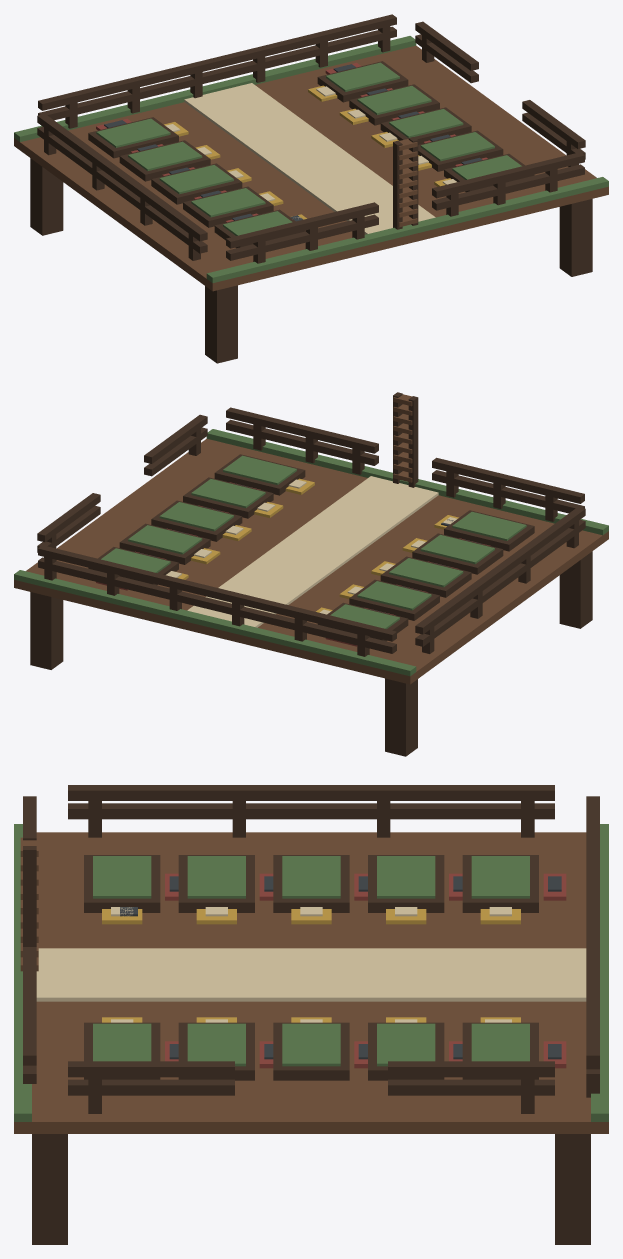
The model's file is KLC_ForestPlot_Floor02.fbx.
3 renders of one model, top to bottom at view 1: azimuth 30°, elevation 25°; view 2: azimuth 150°, elevation 25°; view 3: azimuth 270°, elevation 25°, orthographic. The views are drawn at different scales.
Parts seen in each view (by area): view 1: F02_MainDeck, F02_CenterPath, F02_GrassRimBack, F02_FenceFrontTop, F02_FenceFrontLow, F02_GrassRimFront, F02_FenceLeftTop, F02_Support_3, F02_Support_1, F02_Support_0, F02_FenceLeftLow, F02_FenceBackTop_R (+27 smaller); view 2: F02_MainDeck, F02_CenterPath, F02_GrassRimFront, F02_FenceFrontTop, F02_FenceFrontLow, F02_GrassRimBack, F02_FenceLeftTop, F02_Support_2, F02_Support_0, F02_Support_1, F02_FenceLeftLow, F02_FenceBackTop_R (+26 smaller); view 3: F02_MainDeck, F02_CenterPath, F02_FenceLeftLow, F02_FenceLeftTop, F02_Support_2, F02_Support_3, F02_FenceFrontTop, F02_GrassRimFront, F02_FenceRightTop, F02_FenceRightTopB, F02_GrassRimBack, F02_FenceRightLow (+23 smaller).
Boxes of the visible parts, box(x1,y1,x2,y2) form: F02_MainDeck: box(14, 45, 608, 291); F02_CenterPath: box(184, 83, 435, 234); F02_GrassRimBack: box(206, 177, 608, 282); F02_FenceFrontTop: box(38, 14, 396, 110); F02_FenceFrontLow: box(38, 26, 396, 120); F02_GrassRimFront: box(14, 36, 416, 141); F02_FenceLeftTop: box(37, 114, 207, 241); F02_Support_3: box(559, 199, 592, 276); F02_Support_1: box(205, 285, 237, 363); F02_Support_0: box(30, 158, 63, 235); F02_FenceLeftLow: box(37, 126, 207, 253); F02_FenceBackTop_R: box(432, 152, 584, 198); F02_MainDeck: box(14, 438, 608, 684); F02_CenterPath: box(187, 476, 438, 627); F02_GrassRimFront: box(14, 570, 416, 676); F02_FenceFrontTop: box(38, 545, 396, 641); F02_FenceFrontLow: box(38, 557, 396, 653); F02_GrassRimBack: box(206, 429, 608, 535); F02_FenceLeftTop: box(415, 507, 585, 634); F02_Support_2: box(30, 592, 63, 669); F02_Support_0: box(385, 678, 417, 756); F02_Support_1: box(559, 551, 592, 628); F02_FenceLeftLow: box(415, 519, 585, 646); F02_FenceBackTop_R: box(226, 407, 378, 453); F02_MainDeck: box(14, 832, 608, 1133); F02_CenterPath: box(36, 948, 586, 1001); F02_FenceLeftLow: box(68, 803, 554, 819); F02_FenceLeftTop: box(68, 785, 554, 800); F02_Support_2: box(555, 1134, 590, 1244); F02_Support_3: box(32, 1134, 67, 1244); F02_FenceFrontTop: box(586, 796, 599, 1065); F02_GrassRimFront: box(591, 824, 608, 1121); F02_FenceRightTop: box(388, 1061, 554, 1077); F02_FenceRightTopB: box(68, 1061, 234, 1077); F02_GrassRimBack: box(14, 824, 31, 1121); F02_FenceRightLow: box(388, 1079, 554, 1095).
Size of the model in its own units: 1900 by 812 by 1650.
7 materials, 7 textured.
